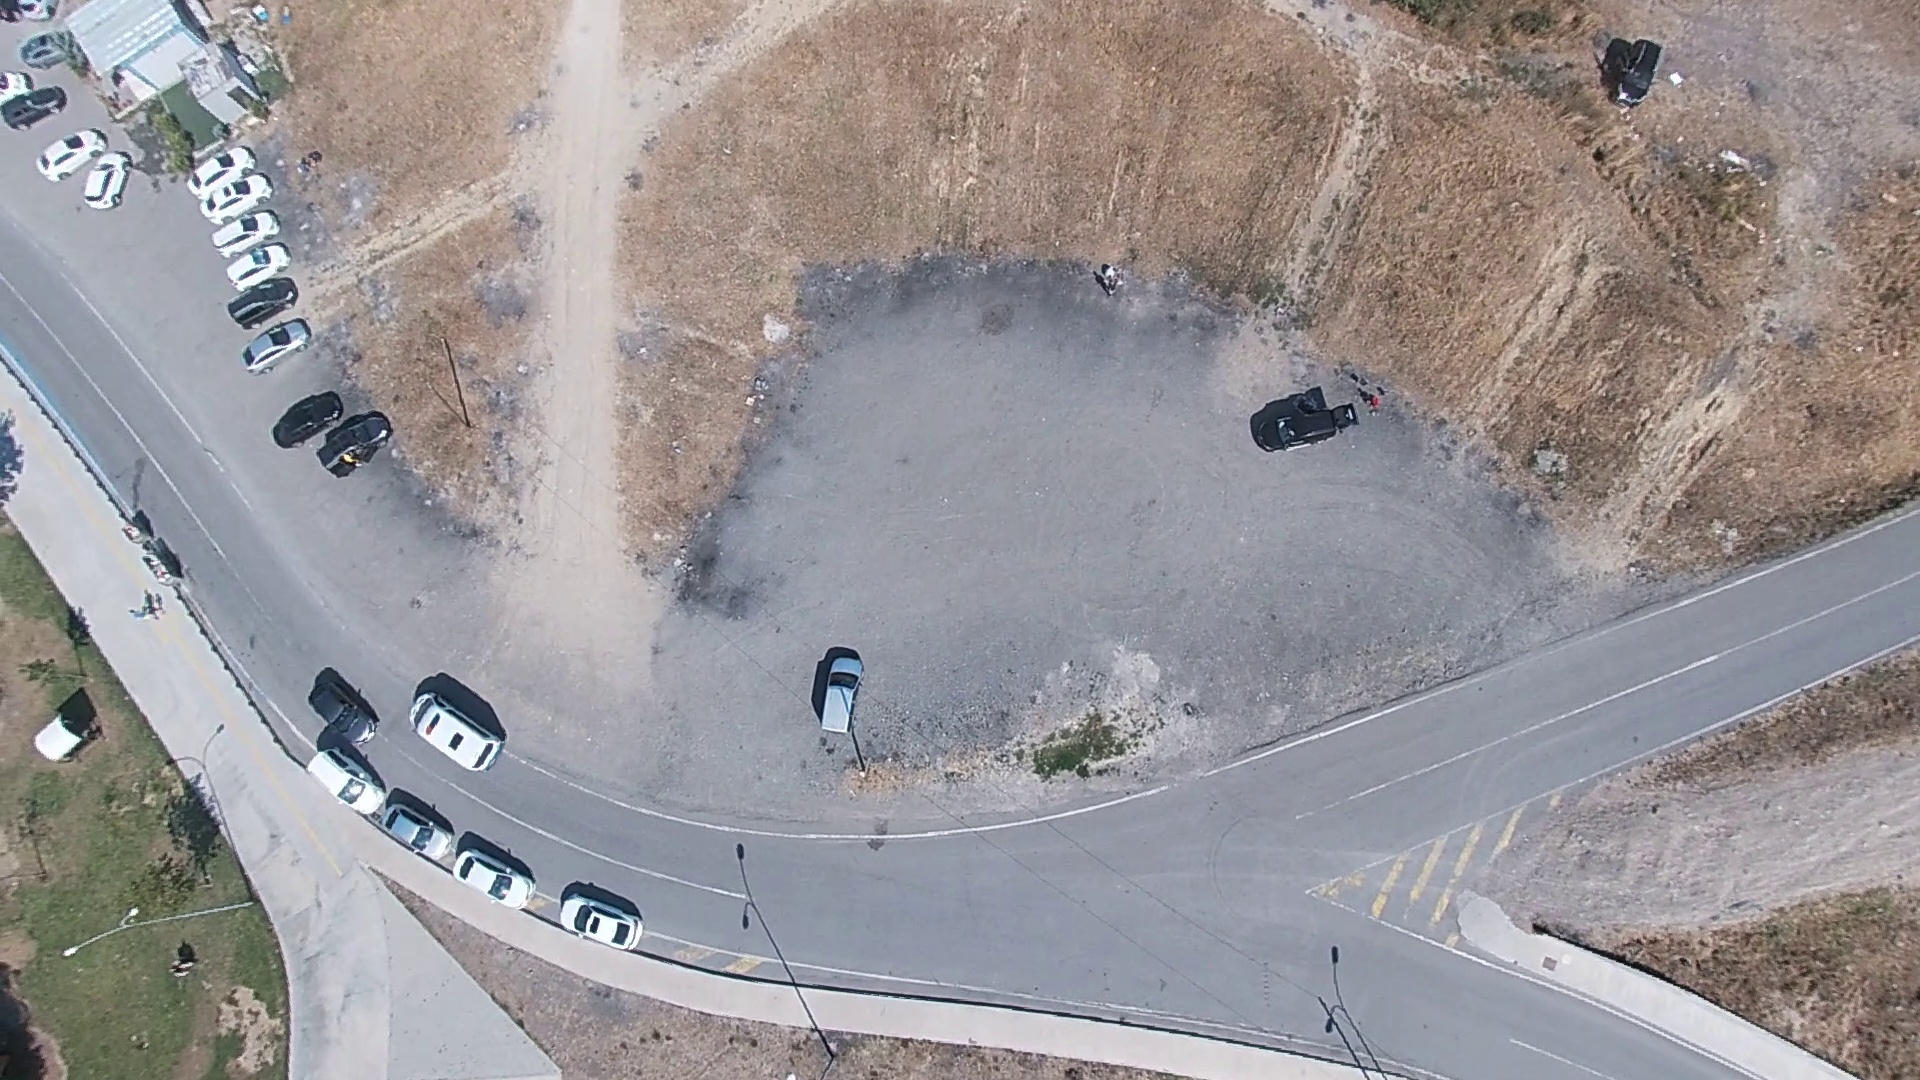araba: (404, 678, 505, 780), (449, 834, 541, 917), (297, 746, 393, 823), (1239, 396, 1353, 455), (373, 795, 460, 868), (314, 408, 391, 484), (305, 671, 384, 746), (560, 883, 643, 951), (815, 644, 866, 743), (1, 78, 77, 142), (1613, 32, 1672, 109), (177, 143, 256, 199), (32, 123, 103, 185), (270, 389, 341, 450), (236, 314, 304, 368), (205, 205, 286, 248), (218, 246, 300, 289), (210, 170, 275, 216), (82, 158, 124, 208)
insan: (1099, 259, 1127, 297)
